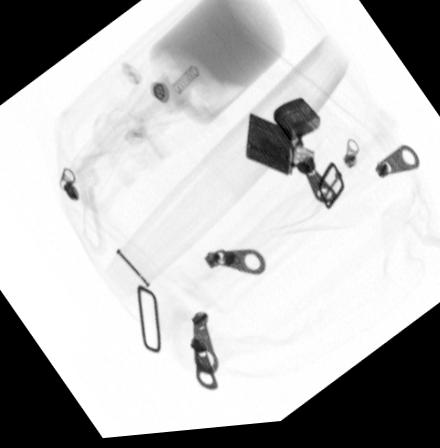Lighter: (245, 101, 320, 183)
